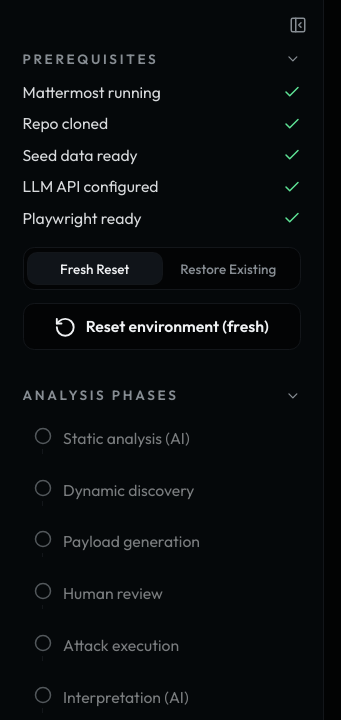
Test case: Sidebar › collapses the Analysis phases section when its toggle is clicked
Expected: the text "Static analysis (AI)" is shown, [63,428,190,448]
Click the button "ANALYSIS PHASES": {"x": 162, "y": 396} [22,386,300,404]
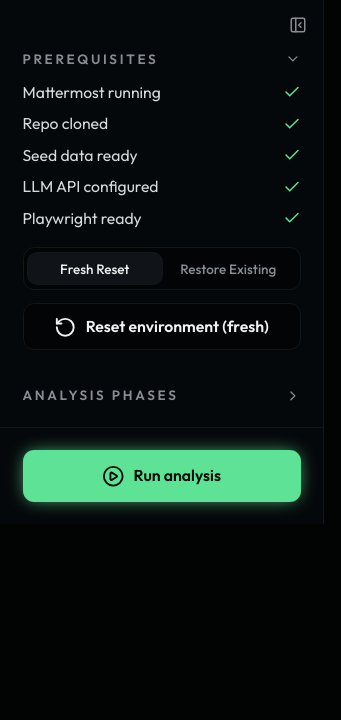
Expected: the text "Static analysis (AI)" is gone
